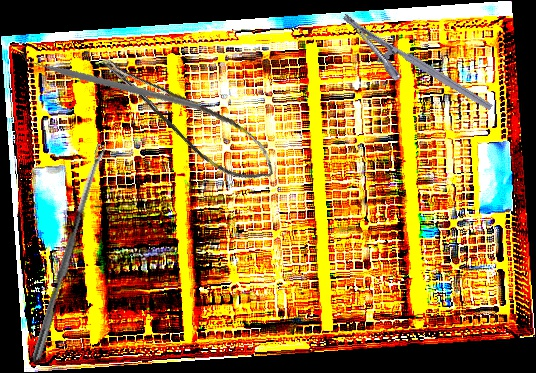Chopper: (17, 1, 202, 154)
Micro Scissor: (96, 27, 286, 202)
Needle Holder: (329, 12, 494, 132)
Surgical Spoon: (30, 143, 108, 365)
